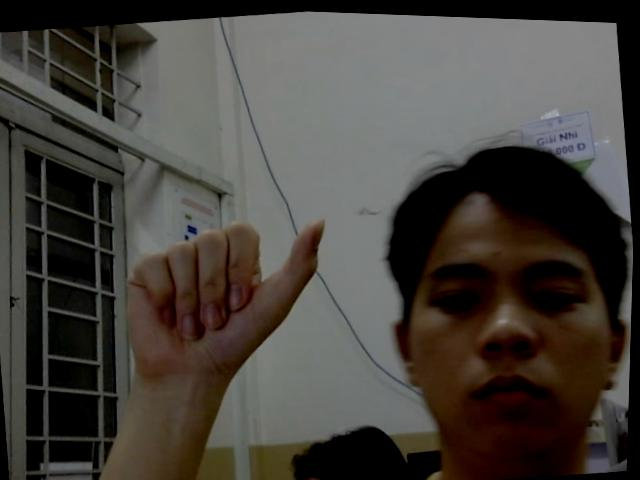A: (104, 208, 352, 376)
